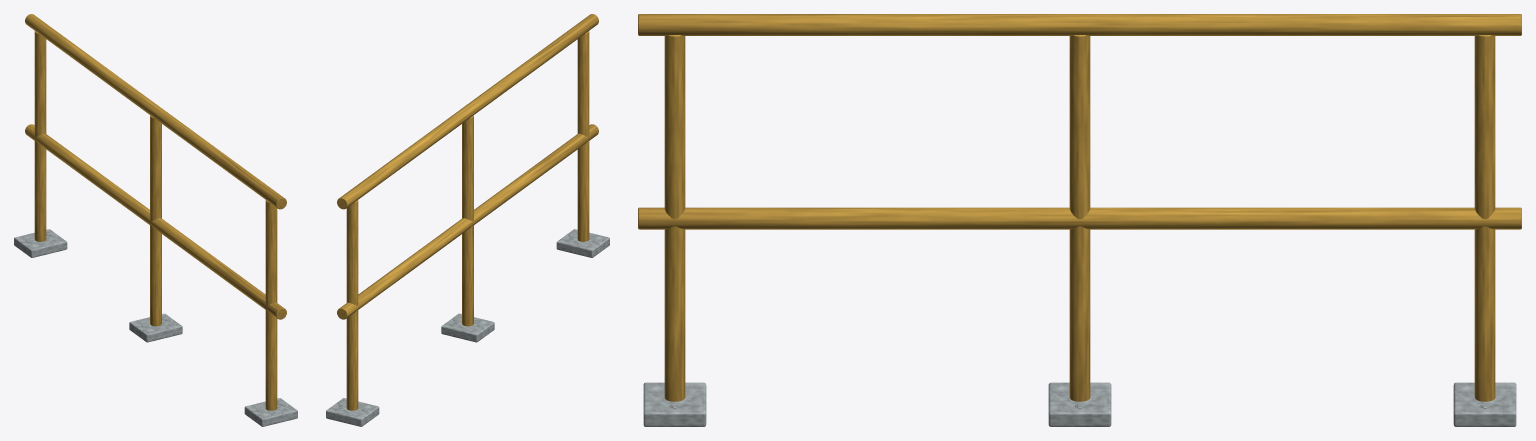
Rendered from GR_Handrail_03.glb.
The picture shows the model from 3 angles, left to right: view 1: azimuth 30°, elevation 25°; view 2: azimuth 150°, elevation 25°; view 3: azimuth 270°, elevation 25°; orthographic projection. The views are drawn at different scales.
Visible parts, largest first — view 1: Static; view 2: Static; view 3: Static.
Boxes of the visible parts, x1=… form: Static: x1=14, y1=14, x2=297, y2=426; Static: x1=326, y1=14, x2=609, y2=426; Static: x1=638, y1=14, x2=1521, y2=426.
Size of the model in its own units: 0.2 by 1.19 by 2.4.
Materials: 1 (1 with a texture image).
